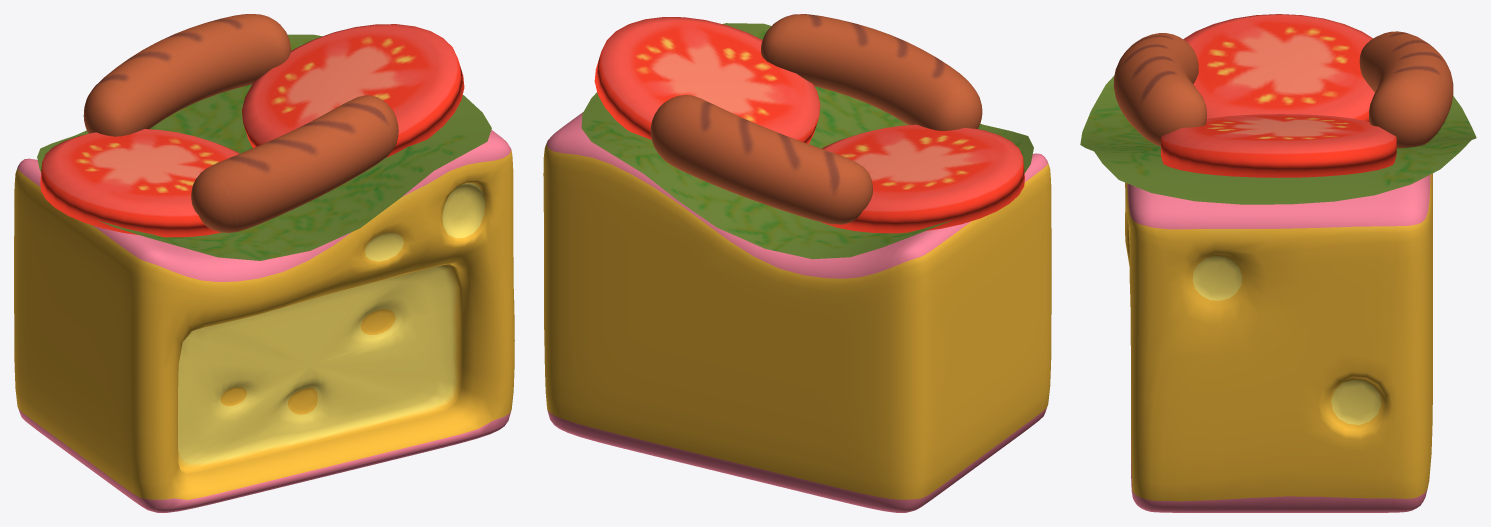
Rendered from cheese3.fbx.
The picture shows the model from 3 angles, left to right: view 1: azimuth 30°, elevation 25°; view 2: azimuth 150°, elevation 25°; view 3: azimuth 270°, elevation 25°; orthographic projection. The views are drawn at different scales.
Visible parts, largest first — view 1: Roundcube, Cylinder.002, Plane, Cylinder.001, Roundcube.002, Roundcube.001; view 2: Roundcube, Cylinder.002, Roundcube.001, Cylinder.001, Plane, Roundcube.002; view 3: Roundcube, Cylinder.001, Plane, Cylinder.002, Roundcube.001, Roundcube.002.
Part boxes in pixels (x1,y1,x2,y2): Roundcube: [14, 130, 514, 512]; Cylinder.002: [242, 24, 464, 157]; Plane: [37, 34, 491, 260]; Cylinder.001: [40, 129, 239, 237]; Roundcube.002: [191, 95, 398, 232]; Roundcube.001: [83, 14, 290, 136]; Roundcube: [543, 112, 1051, 512]; Cylinder.002: [594, 17, 820, 143]; Roundcube.001: [650, 95, 872, 224]; Cylinder.001: [821, 124, 1024, 233]; Plane: [581, 23, 1033, 259]; Roundcube.002: [761, 14, 982, 130]; Roundcube: [1125, 173, 1432, 512]; Cylinder.001: [1183, 14, 1374, 121]; Plane: [1080, 76, 1476, 204]; Cylinder.002: [1161, 114, 1396, 177]; Roundcube.001: [1359, 31, 1453, 148]; Roundcube.002: [1113, 33, 1206, 146].
Size of the model in its own units: 314 by 270 by 257.
1 material, 1 textured.
